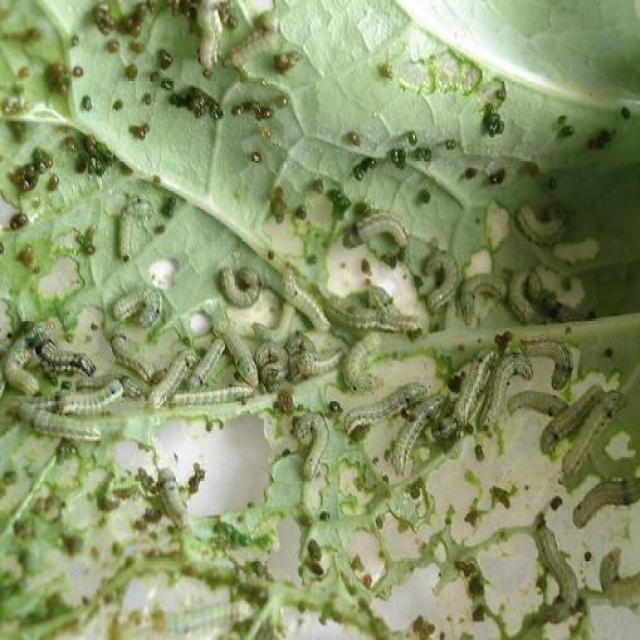BeetArmyWorm-Larva-: (557, 383, 633, 481), (342, 375, 430, 445), (528, 516, 584, 623), (386, 389, 448, 483), (477, 347, 534, 442), (337, 330, 400, 406), (448, 345, 497, 437), (221, 7, 285, 74), (19, 400, 104, 449), (568, 470, 638, 528), (212, 312, 262, 391), (511, 331, 575, 389), (343, 203, 413, 256), (56, 370, 134, 417), (290, 406, 335, 481), (114, 185, 154, 269), (503, 257, 548, 328), (217, 256, 270, 314), (456, 268, 510, 324), (104, 328, 158, 384), (419, 239, 459, 312), (114, 282, 171, 332), (517, 198, 572, 249)
